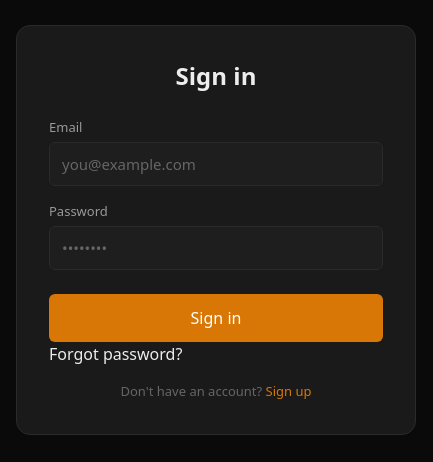
SignInPage › shows an error message when signIn rejects with an Error
Type "user@example.com" into the field labelled "Email".
click(216, 164); type("user@example.com")  # box [49, 142, 383, 186]
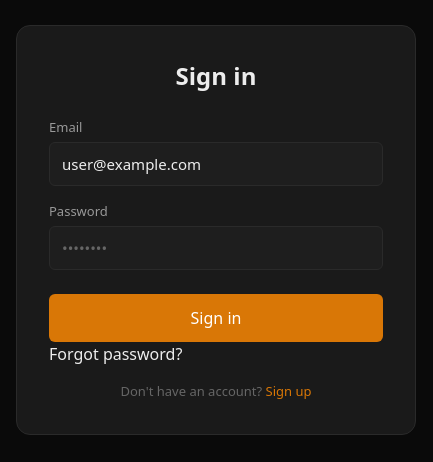
Type "wrongpass" into the password field labelled "Password".
click(216, 248); type("wrongpass")  # box [49, 226, 383, 270]
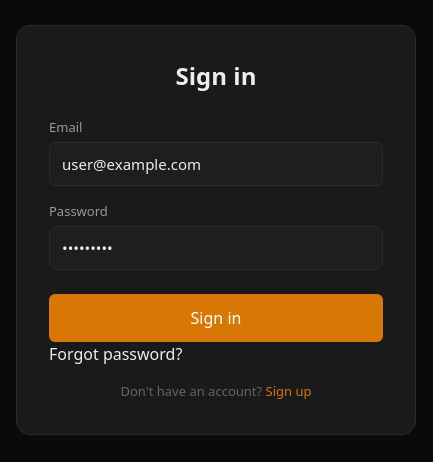
Click the button "Sign in".
click(216, 318)  # box [49, 294, 383, 342]
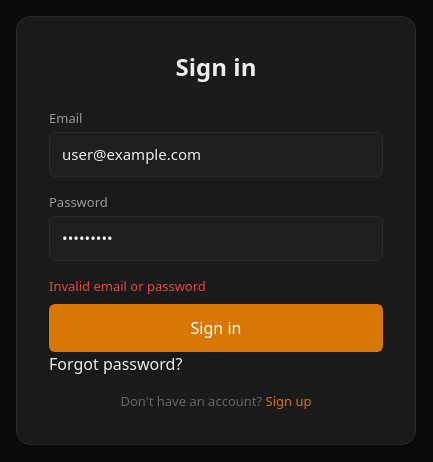
expect the text "Invalid email or password" is shown: met, box [49, 276, 206, 294]
